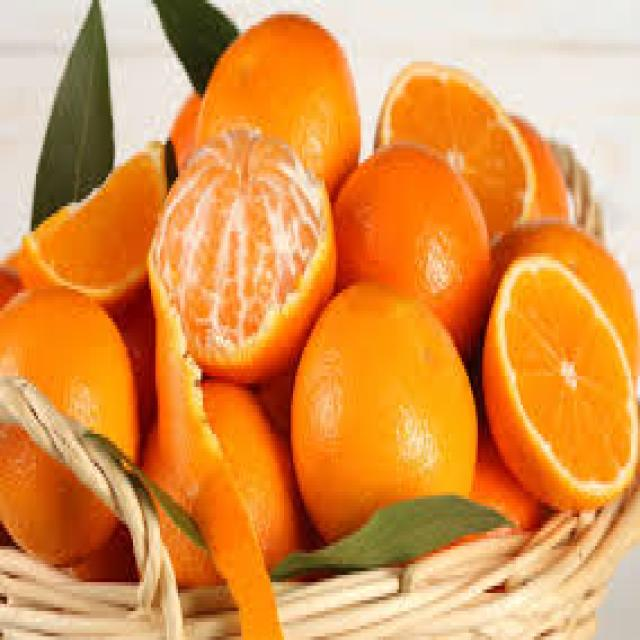orange: (297, 289, 483, 513)
